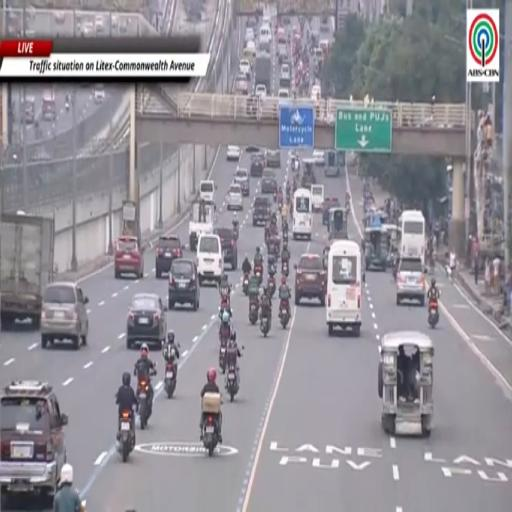bus: (399, 211, 425, 264), (292, 188, 312, 239), (42, 89, 56, 121)
car: (0, 380, 68, 503), (40, 282, 88, 349), (126, 294, 167, 349), (295, 253, 326, 306), (168, 259, 200, 310), (396, 259, 426, 306), (197, 233, 224, 285), (114, 236, 143, 278), (156, 235, 184, 278), (215, 228, 237, 269), (252, 196, 270, 226), (322, 198, 340, 225), (260, 169, 278, 194), (227, 183, 243, 211), (234, 168, 250, 196), (249, 152, 265, 177), (235, 71, 249, 95), (266, 150, 281, 168), (280, 64, 291, 87), (244, 40, 257, 58), (227, 146, 241, 162), (239, 59, 251, 77), (94, 85, 105, 104), (277, 45, 287, 65), (312, 150, 324, 166), (255, 85, 266, 99), (246, 16, 258, 28), (245, 27, 254, 43), (54, 11, 65, 24), (311, 85, 320, 100), (278, 89, 290, 100)
jeepney: (378, 331, 434, 437)
motorcycle: (116, 411, 134, 463), (137, 377, 152, 429), (203, 414, 218, 456), (225, 362, 239, 402), (164, 362, 177, 398), (279, 299, 289, 328), (428, 300, 438, 328), (219, 340, 227, 374), (260, 315, 270, 337), (249, 301, 258, 325), (219, 325, 230, 344), (219, 301, 231, 318), (242, 273, 249, 296), (268, 275, 275, 297), (255, 265, 262, 284), (282, 261, 288, 277), (233, 224, 239, 239), (79, 500, 86, 511), (283, 230, 288, 243), (65, 102, 70, 111), (273, 191, 276, 202)
truck: (0, 214, 54, 329), (189, 202, 214, 251), (254, 53, 272, 93)
